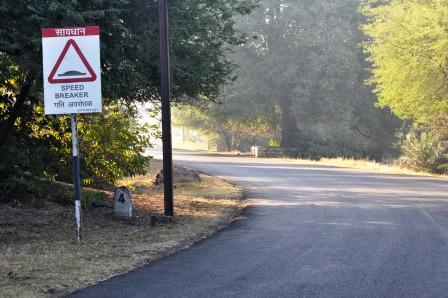speed-breaker: (47, 39, 97, 84)
